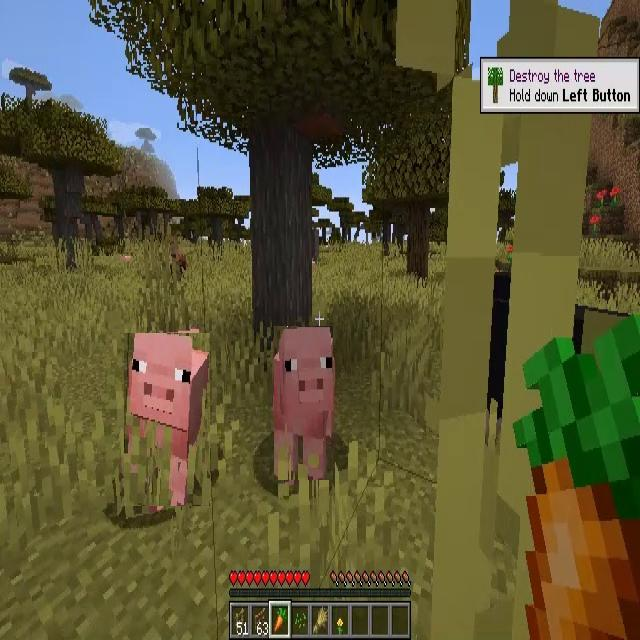pig: (124, 333, 210, 506), (274, 326, 333, 480)
